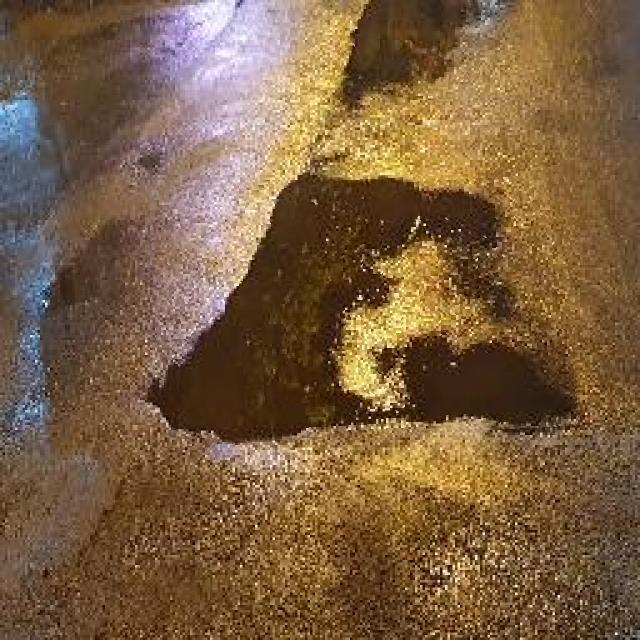puddle: (153, 173, 576, 443), (342, 1, 481, 101)
